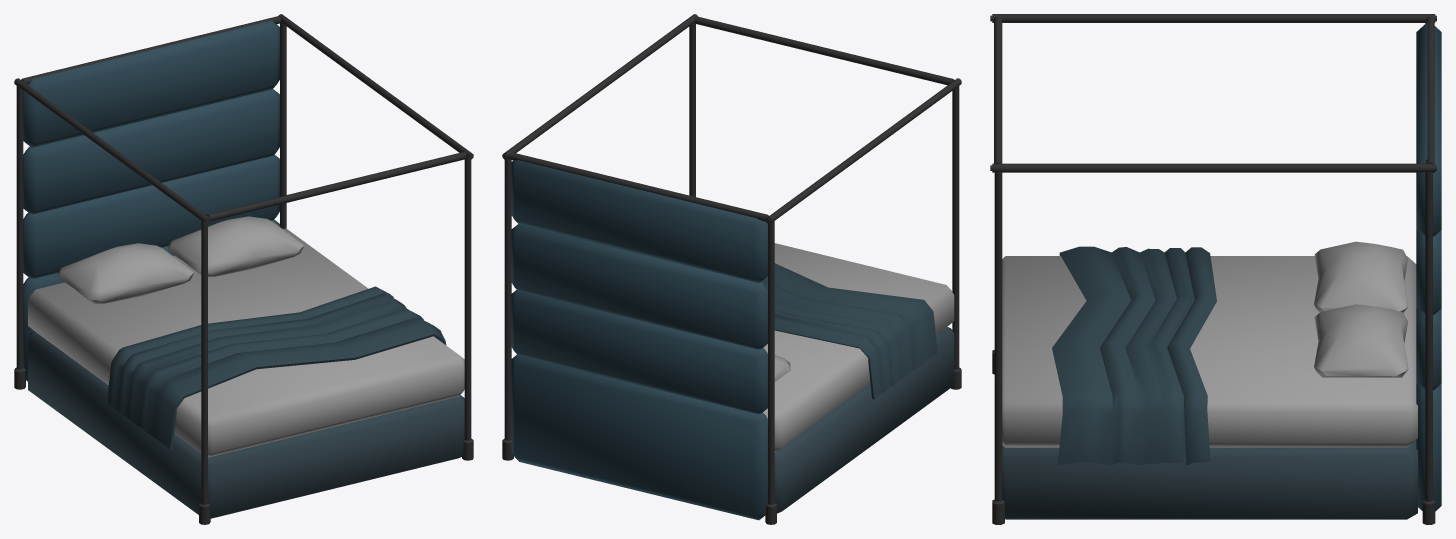
Rendered from bed002.glb.
3 renders of one model, left to right at view 1: azimuth 30°, elevation 25°; view 2: azimuth 150°, elevation 25°; view 3: azimuth 270°, elevation 25°, orthographic. The views are drawn at different scales.
Parts seen in each view (by area): view 1: bed.002; view 2: bed.002; view 3: bed.002.
Boxes of the visible parts, x1,y1,x2,y2 form: bed.002: [14, 14, 473, 524]; bed.002: [502, 14, 961, 524]; bed.002: [990, 14, 1441, 524].
Bounding box in the file's own units: 1.93 × 1.98 × 2.26.
Materials: 1 (1 with a texture image).
